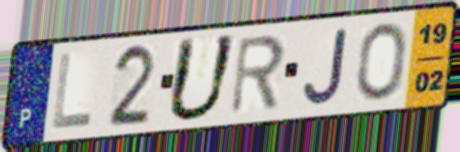2: (107, 40, 159, 132)
J: (301, 25, 351, 107)
L: (49, 50, 95, 133)
O: (355, 20, 408, 103)
R: (228, 32, 288, 117)
U: (163, 32, 241, 125)
